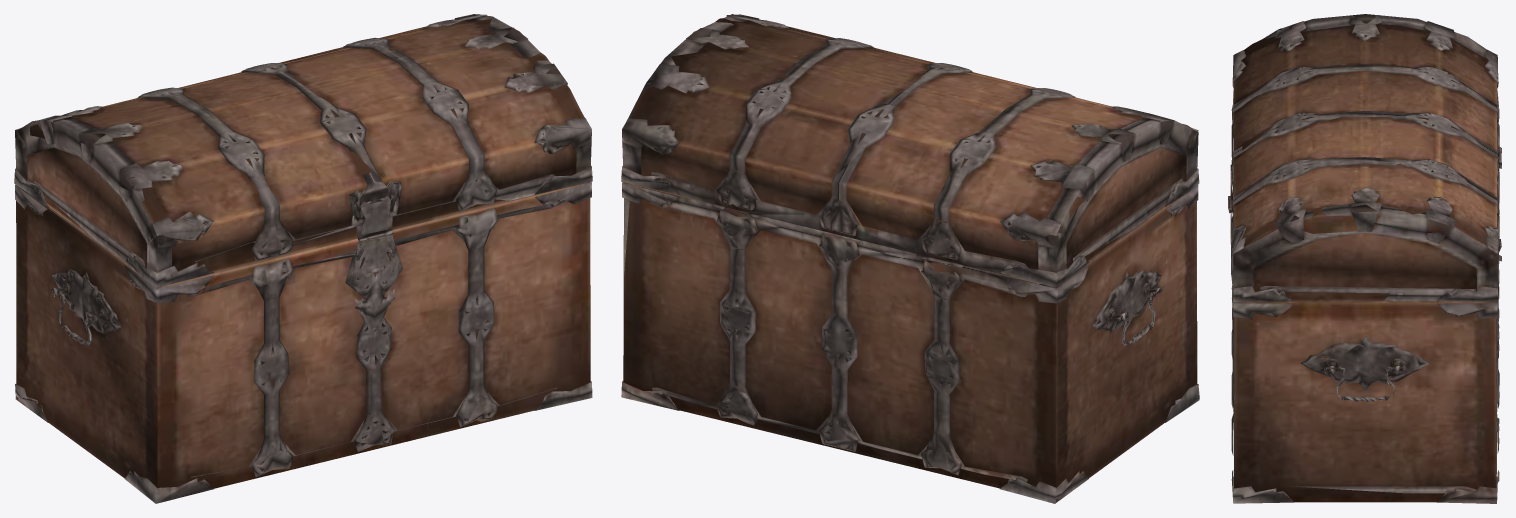
The model's file is treasure_chest.glb.
The picture shows the model from 3 angles, left to right: view 1: azimuth 30°, elevation 25°; view 2: azimuth 150°, elevation 25°; view 3: azimuth 270°, elevation 25°; orthographic projection. The views are drawn at different scales.
Visible parts, largest first — view 1: treasure_chest_bottom, treasure_chest_lid, treasure_chest_lock; view 2: treasure_chest_bottom, treasure_chest_lid; view 3: treasure_chest_lid, treasure_chest_bottom, treasure_chest_handle_right.
Boxes of the visible parts, x1,y1,x2,y2 form: treasure_chest_bottom: [15, 182, 592, 503]; treasure_chest_lid: [14, 14, 592, 287]; treasure_chest_lock: [351, 232, 399, 321]; treasure_chest_bottom: [621, 182, 1199, 503]; treasure_chest_lid: [621, 14, 1199, 287]; treasure_chest_lid: [1228, 14, 1501, 302]; treasure_chest_bottom: [1231, 152, 1501, 503]; treasure_chest_handle_right: [1324, 365, 1407, 401].
Bounding box in the file's own units: 0.9512 × 0.6158 × 0.5222.
1 material, 1 textured.
